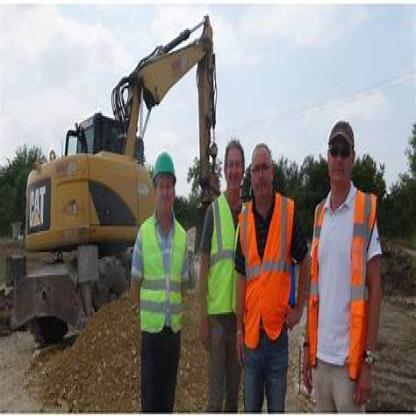person: (312, 102, 392, 414), (235, 129, 308, 414), (121, 132, 190, 414), (198, 132, 239, 414)
